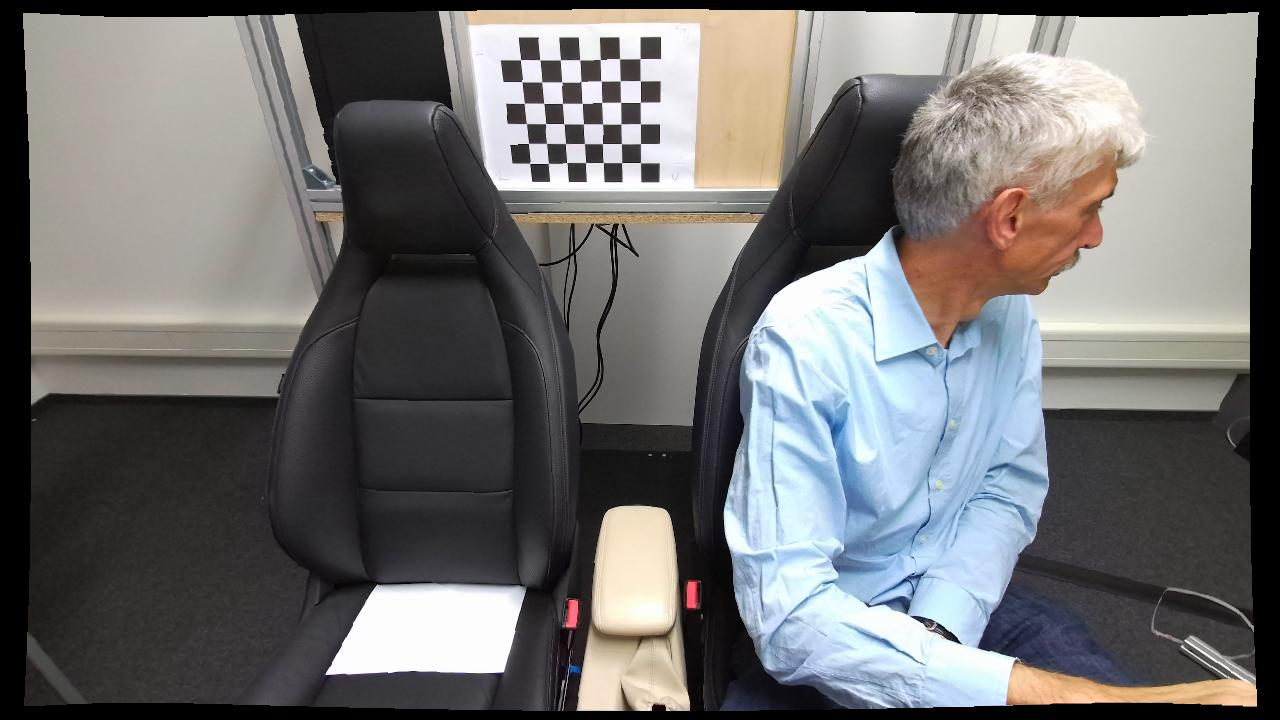Distracted: (720, 52, 1191, 712)
